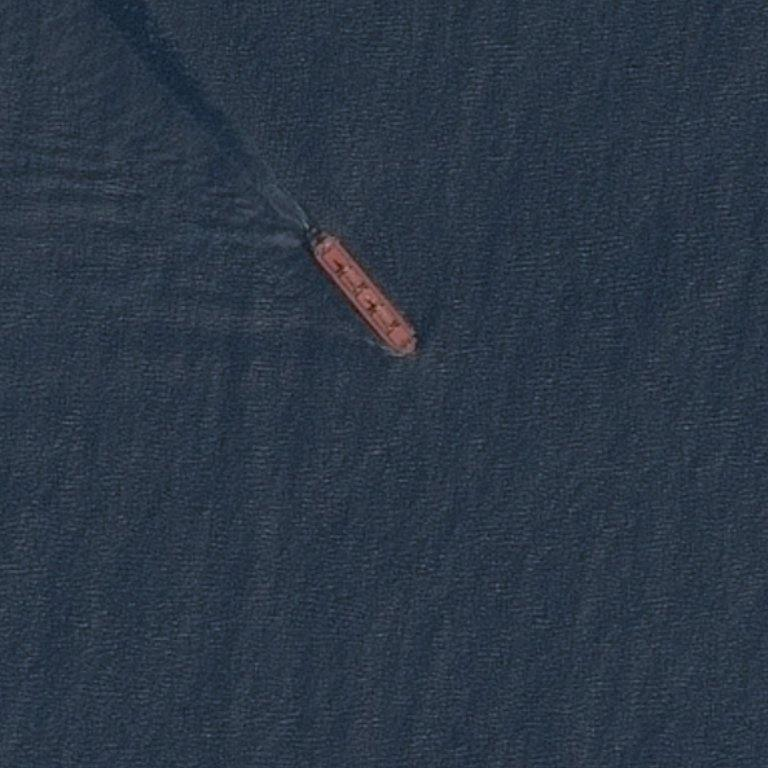ship: (339, 255, 387, 323), (309, 247, 318, 262), (407, 349, 420, 357), (324, 1, 334, 9)
